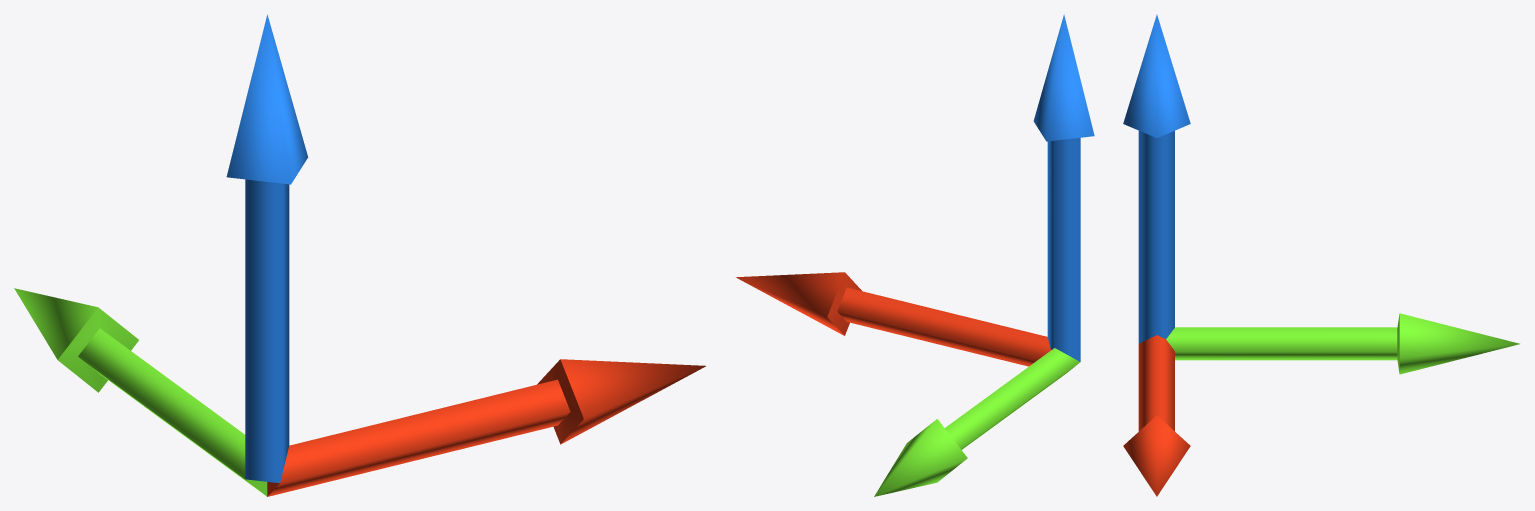
File: Axis.FBX
3 views of the same model, side by side, from view 1: azimuth 30°, elevation 25°; view 2: azimuth 150°, elevation 25°; view 3: azimuth 270°, elevation 25° (orthographic). The views are drawn at different scales.
Visible parts, largest first — view 1: Up, Right, Forward; view 2: Up, Right, Forward; view 3: Up, Forward, Right.
Part boxes in pixels (x1,y1,x2,y2): Up: [226, 14, 308, 483]; Right: [267, 359, 705, 496]; Forward: [14, 288, 267, 496]; Up: [1033, 14, 1094, 361]; Right: [736, 272, 1050, 366]; Forward: [874, 348, 1080, 496]; Up: [1123, 14, 1190, 343]; Forward: [1166, 313, 1519, 374]; Right: [1123, 335, 1190, 496].
Bounding box in the file's own units: 43.03 × 43.03 × 43.03.
